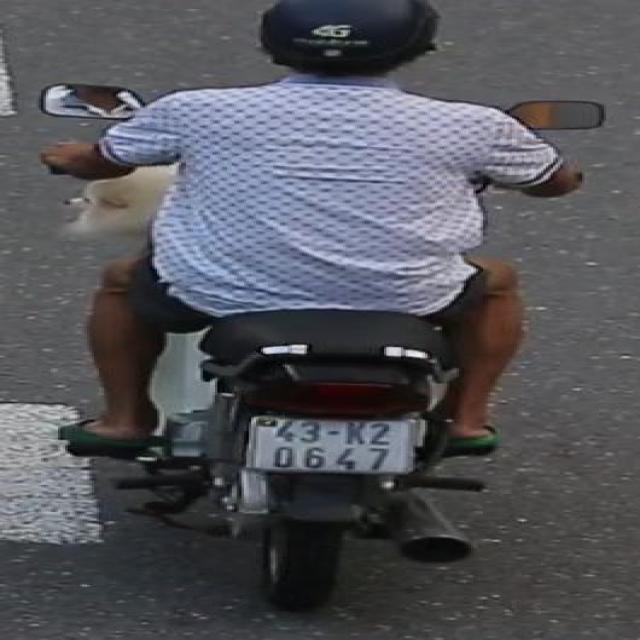LP: (241, 409, 430, 480)
helmet: (228, 0, 474, 103)
